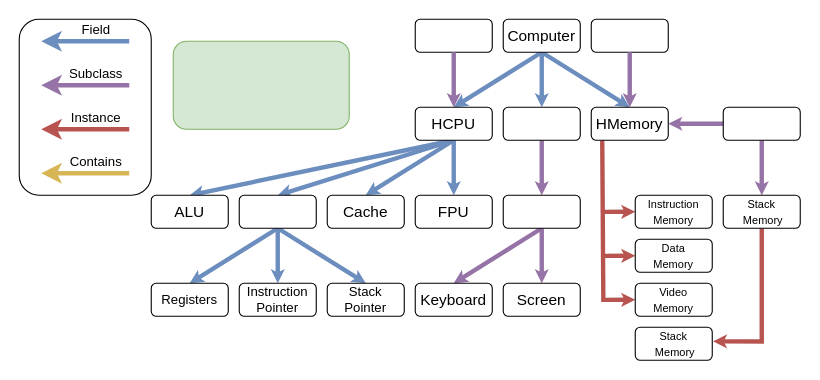
Some shapes in this 820 by 380 pixel diagram are drawn without their labels. The centre of each missing label's shape, as x and y in pixels:
"ByteBank" goes at point 761,123.
"CPU" goes at point 453,35.
"Harvard Architecture" goes at point 260,84.
"I/O" goes at point 541,123.
"Memory" goes at point 629,35.
"Port" goes at point 541,211.
"Register File" goes at point 277,211.
